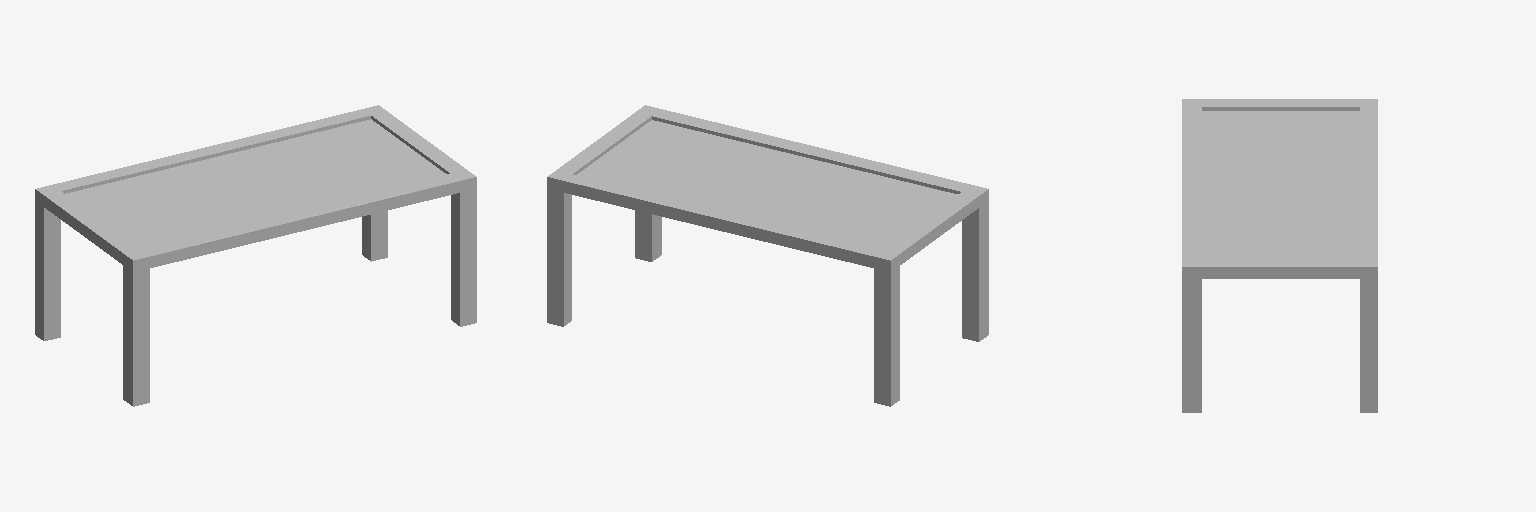
Rendered from table.obj.
3 views of the same model, side by side, from view 1: azimuth 30°, elevation 25°; view 2: azimuth 150°, elevation 25°; view 3: azimuth 270°, elevation 25° (orthographic).
Parts seen in each view (by area): view 1: Cylinder.002_Cylinder.001; view 2: Cylinder.002_Cylinder.001; view 3: Cylinder.002_Cylinder.001.
Boxes of the visible parts, x1=… form: Cylinder.002_Cylinder.001: x1=35, y1=105, x2=476, y2=406; Cylinder.002_Cylinder.001: x1=547, y1=105, x2=988, y2=406; Cylinder.002_Cylinder.001: x1=1182, y1=99, x2=1377, y2=412.
Size of the model in its own units: 8.03 by 3.26 by 3.97.